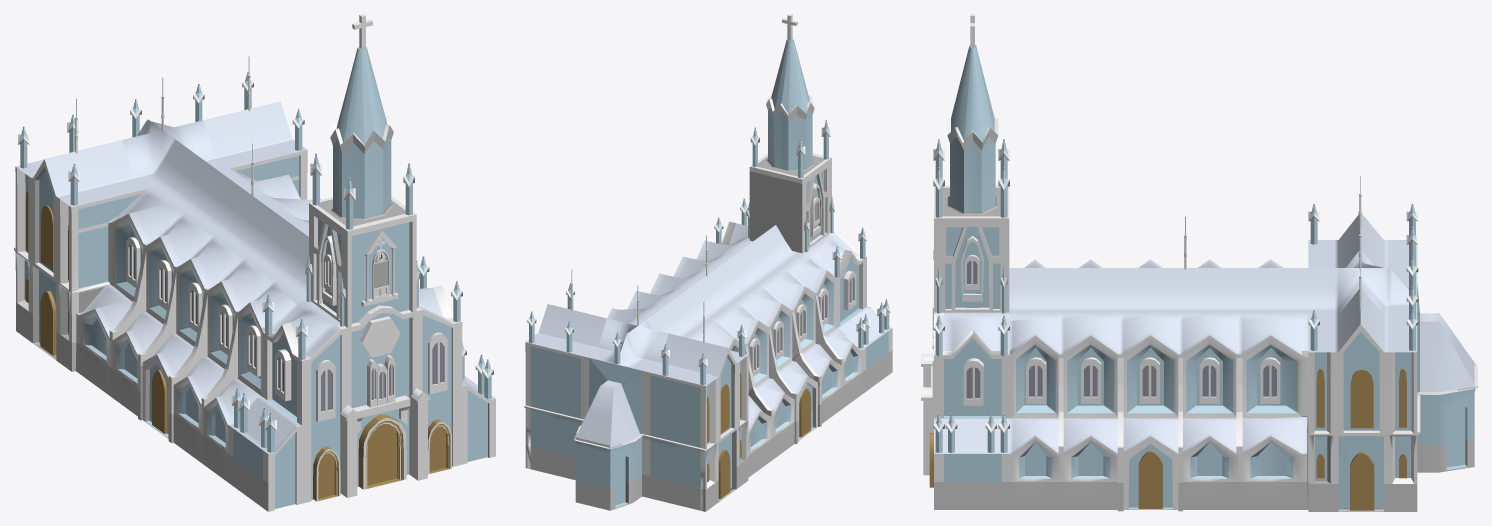
The model's file is Ermita.fbx.
The picture shows the model from 3 angles, left to right: view 1: azimuth 30°, elevation 25°; view 2: azimuth 150°, elevation 25°; view 3: azimuth 270°, elevation 25°; orthographic projection. The views are drawn at different scales.
Visible parts, largest first — view 1: ermita; view 2: ermita; view 3: ermita.
Part boxes in pixels (bbox=[...]): ermita: bbox=[14, 14, 495, 511]; ermita: bbox=[524, 14, 892, 511]; ermita: bbox=[921, 14, 1477, 511].
Size of the model in its own units: 207509 by 381083 by 435802.
